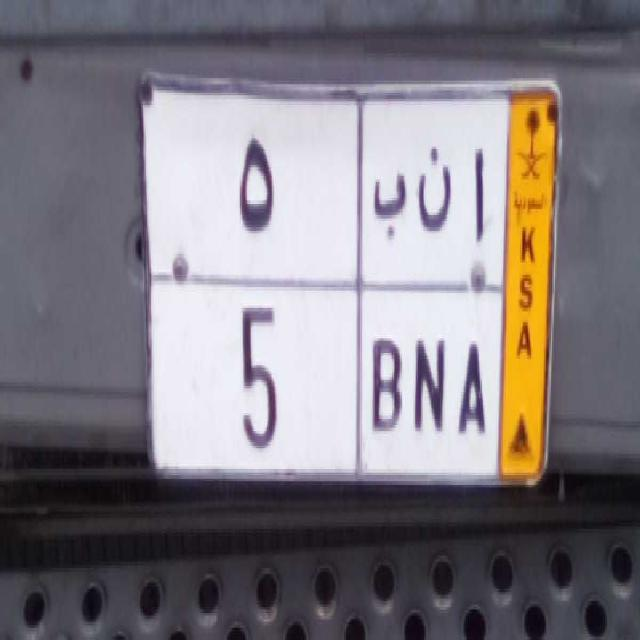license_plate: (145, 266, 505, 498)
